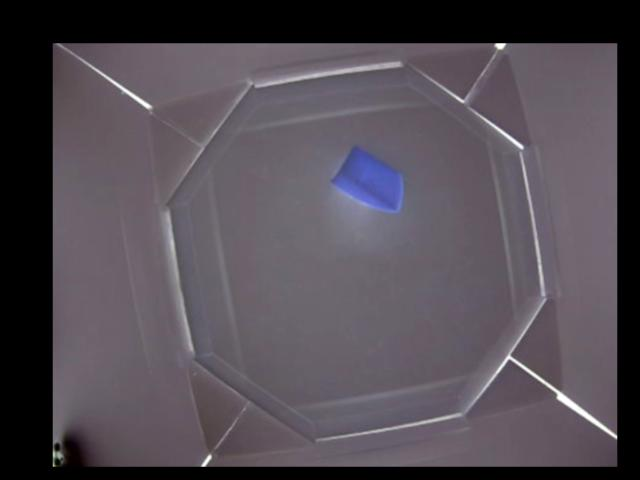Potato: (333, 148, 407, 212)
